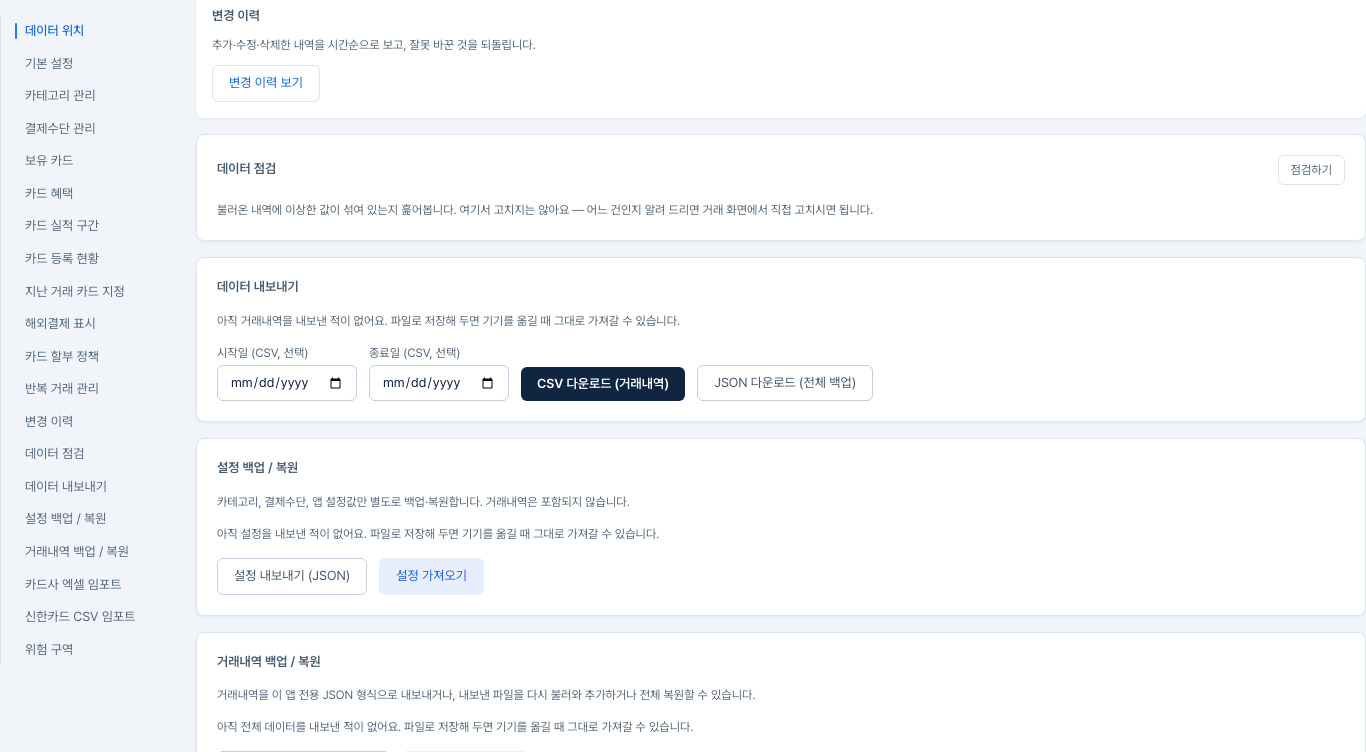
Test: 데이터 내보내기 › 누르고 나면 마지막 내보내기 표시가 바뀐다
(page scrolled)
expect the text "아직 거래내역을 내보낸 적이 없어요. 파일로 저장해 두면 기기를 옮길 때 그대로 가져갈 수 있습니다." is shown: met, box [217,314,680,328]
Click the button "CSV 다운로드 (거래내역)".
click(603, 384)  # box [521,367,685,401]
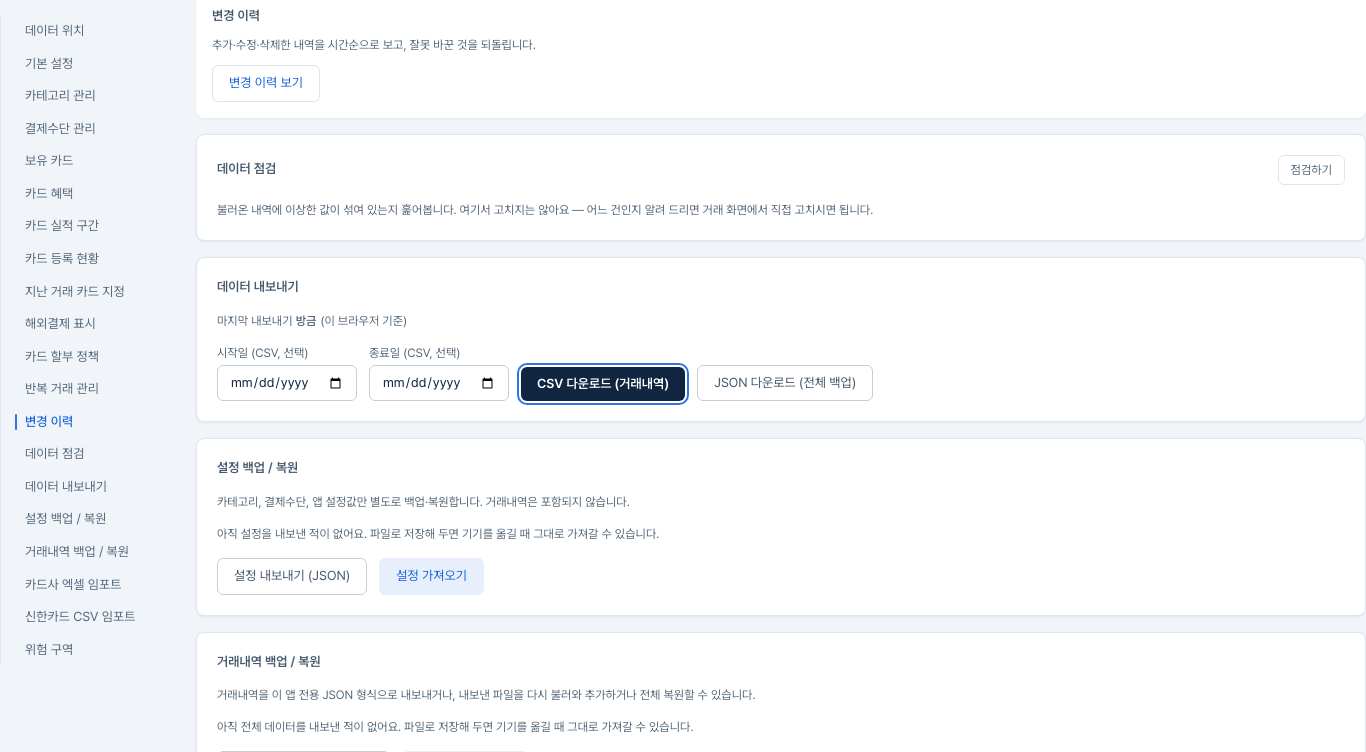
expect the text "마지막 내보내기 방금(이 브라우저 기준)" is shown: met, box [217,314,407,328]
expect the text "방금" is shown: met, box [296,314,316,328]
